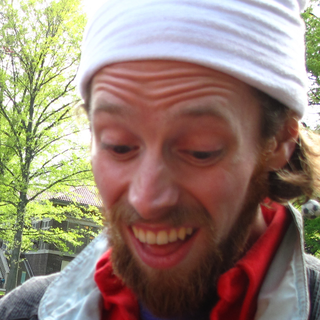eye: (171, 140, 231, 172), (97, 132, 144, 162)
